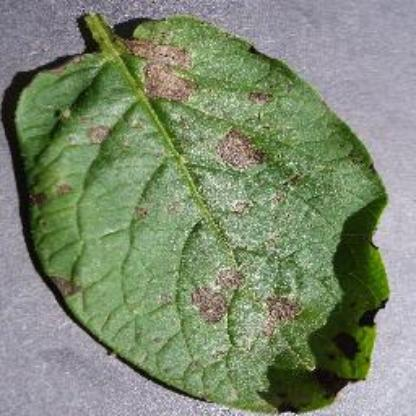Early-Blight: (9, 12, 397, 412)
